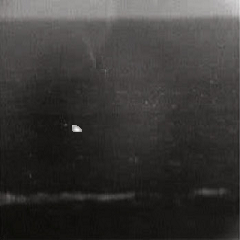Target: (70, 124, 82, 134)
